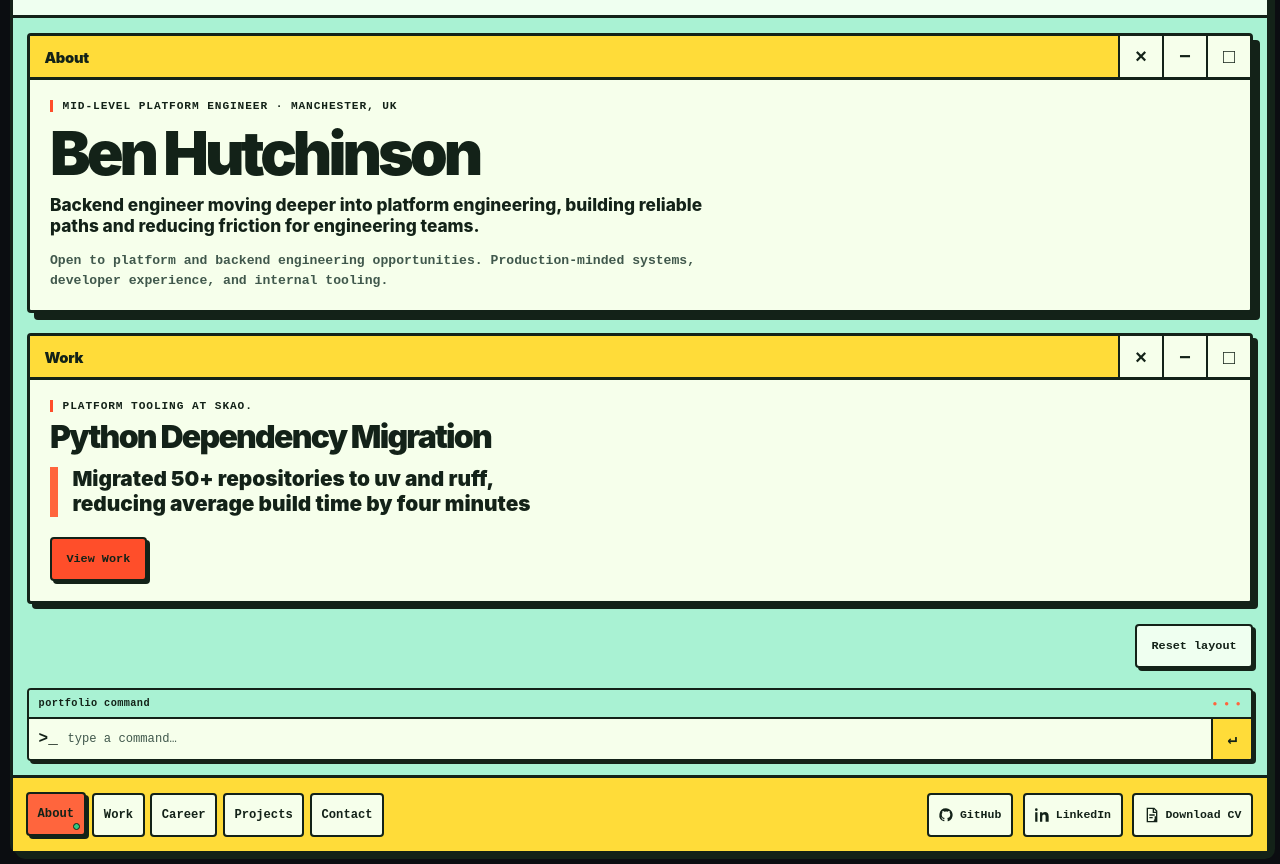
it: PortfolioShell › uses one polite atomic live region that is initially empty and announces a meaningful action once
The width and height of the screenshot is (1280, 864).
(page scrolled)
Click the button "Career": (184, 815) [150,793,217,837]
(page scrolled)
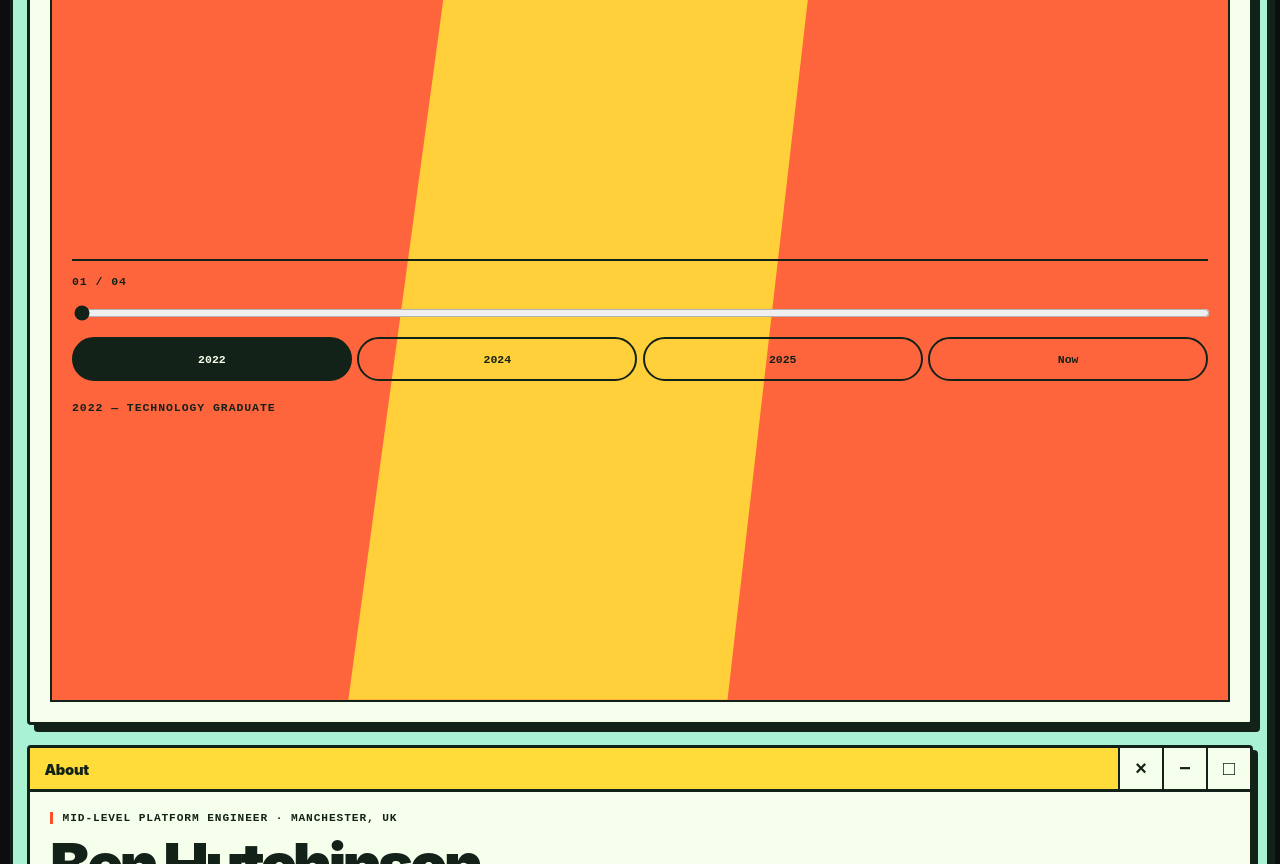
Check: the message named "Current career stage" reads "2022 — Technology Graduate", box [72,401,276,414]
